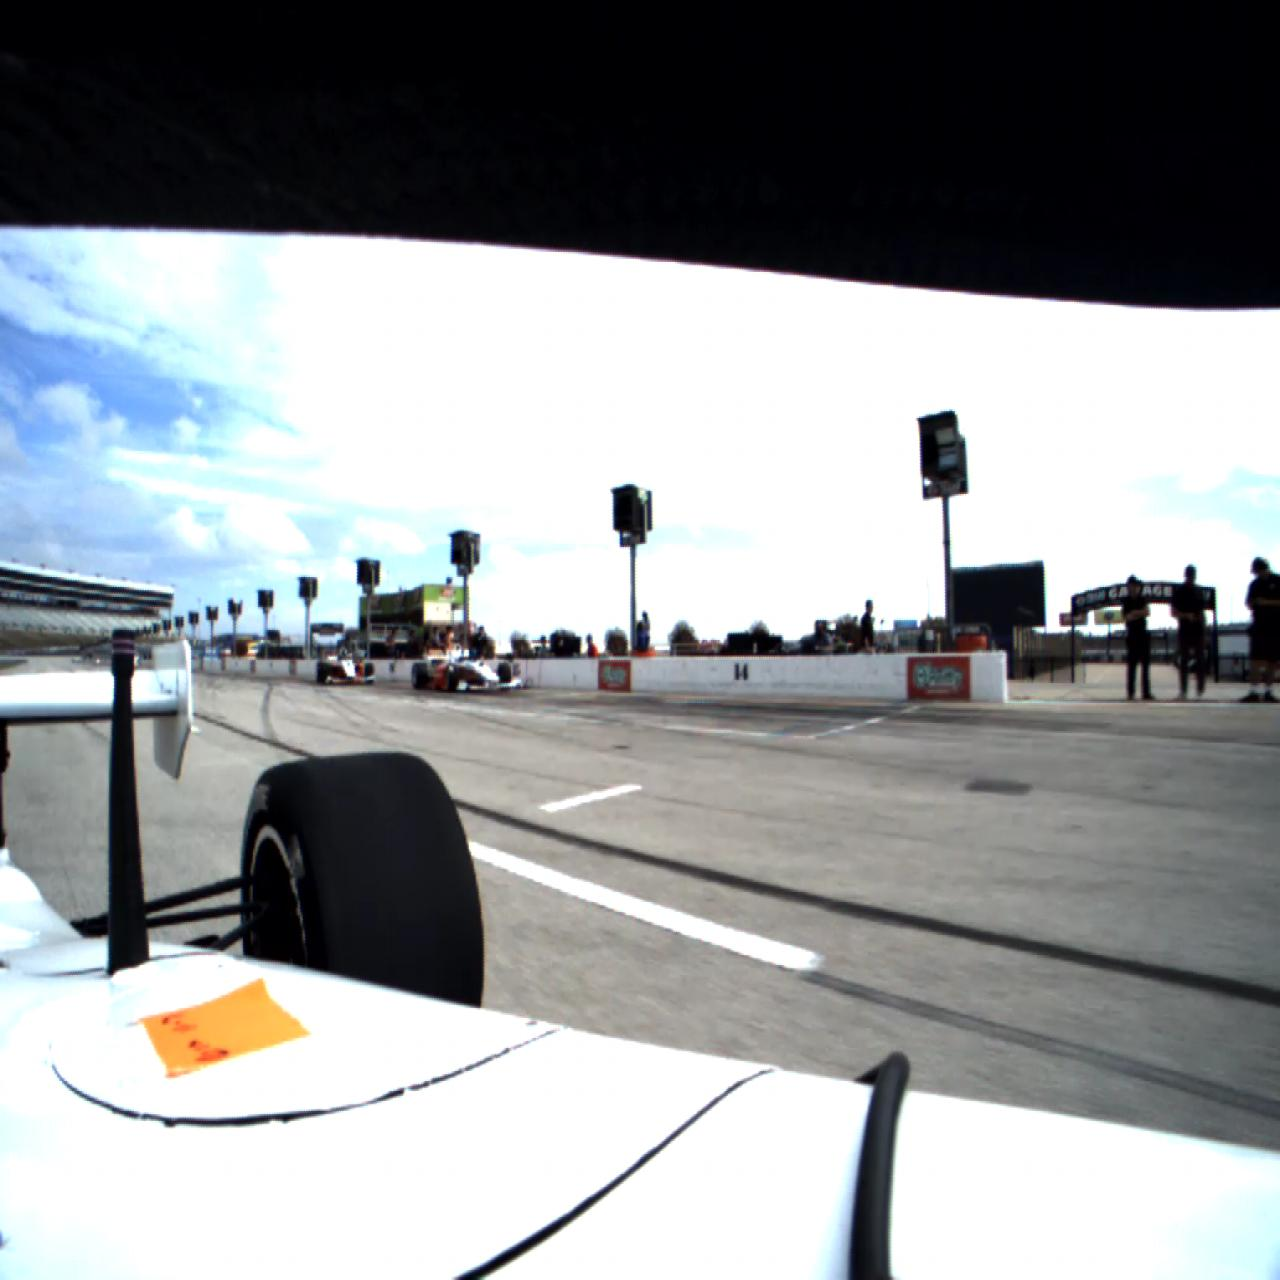AV: (411, 638, 512, 693), (316, 649, 374, 686)
Wheel: (241, 751, 483, 1008), (411, 663, 428, 690), (497, 662, 511, 690), (447, 663, 458, 693), (365, 663, 374, 683)
